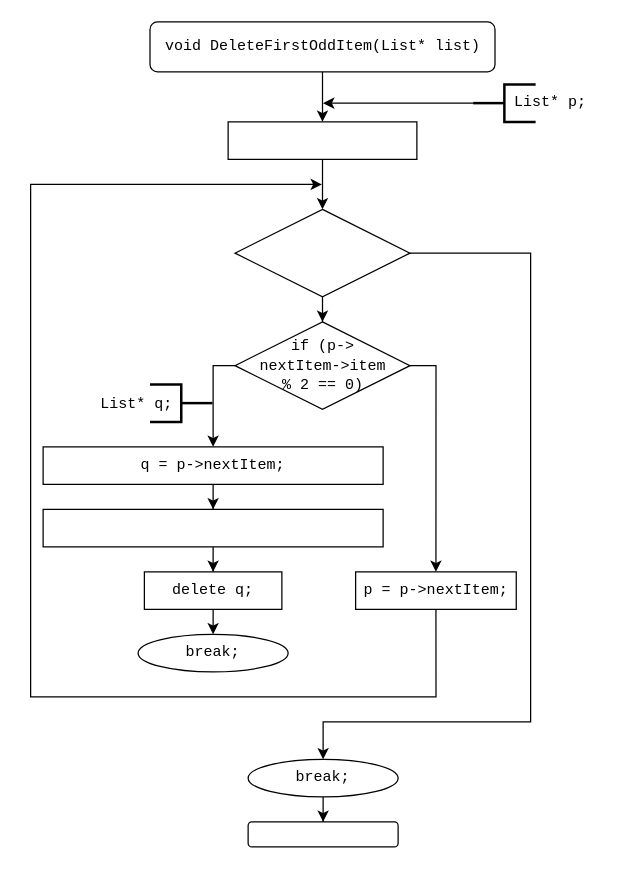
The diagram is 629 pixels wide and 869 high, and some of its shapes have lost their labels. Each missing label, with the centre of its shape:
"p = list;" belongs at pixel 322 140.
"p->nextItem = p->nextItem->nextItem;" belongs at pixel 212 527.
"while (p->nextItem != NULL)" belongs at pixel 322 252.
